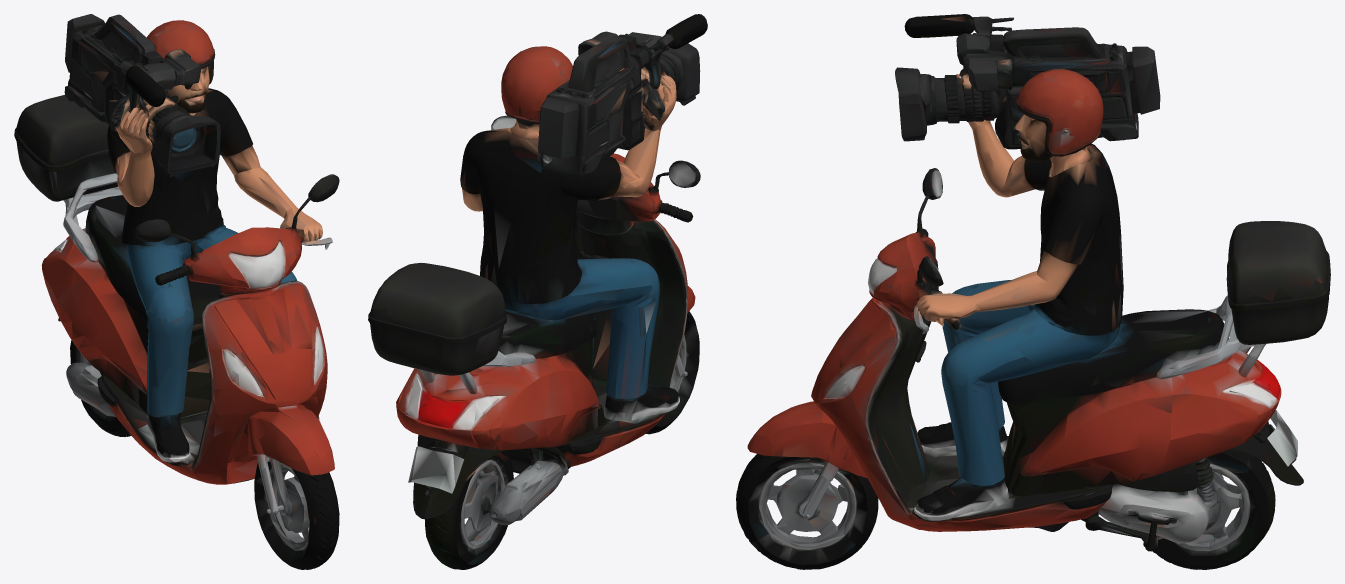
File: shutterbug.glb
The picture shows the model from 3 angles, left to right: view 1: azimuth 30°, elevation 25°; view 2: azimuth 150°, elevation 25°; view 3: azimuth 270°, elevation 25°; orthographic projection. The views are drawn at different scales.
Visible parts, largest first — view 1: Mesh_0; view 2: Mesh_0; view 3: Mesh_0.
Part boxes in pixels (bbox=[...]): Mesh_0: bbox=[14, 14, 339, 569]; Mesh_0: bbox=[368, 14, 707, 569]; Mesh_0: bbox=[736, 14, 1330, 569].
Size of the model in its own units: 0.8149 by 1.79 by 1.9.
